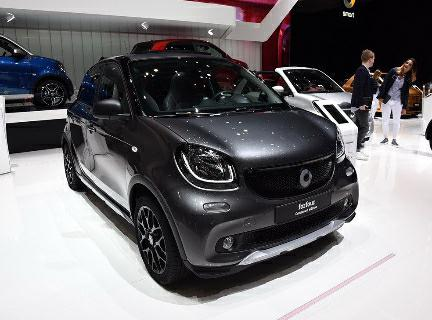smart-forfour: (59, 41, 357, 287)
